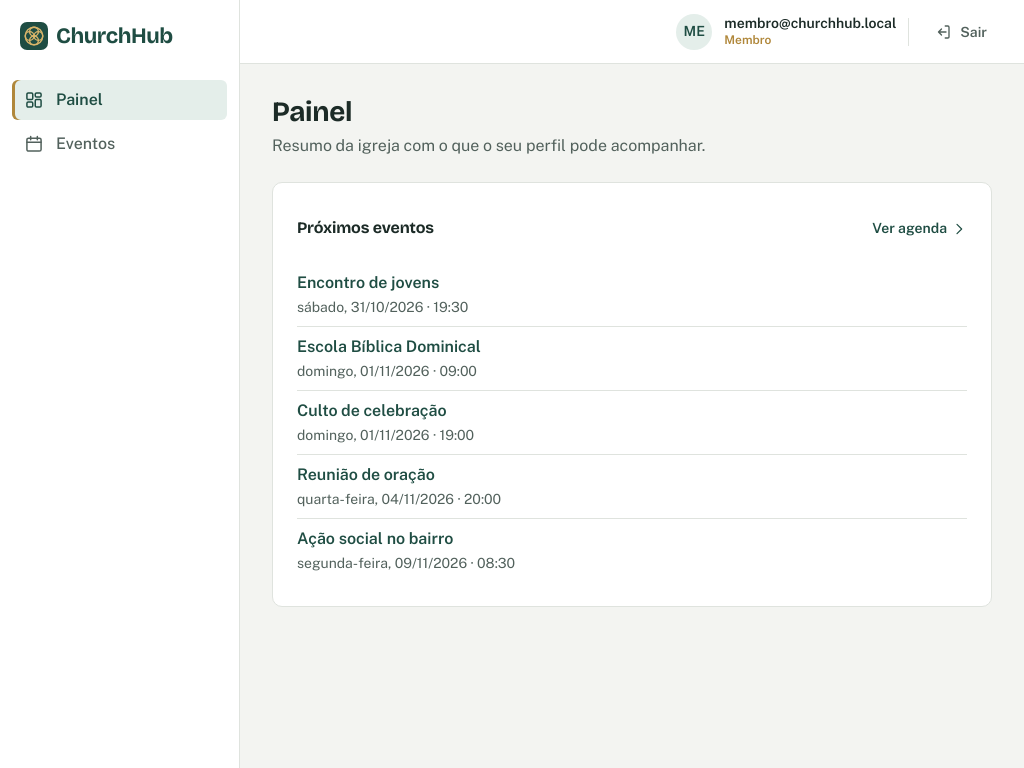
Test: Painel: atalhos para as telas › clicar num evento abre os detalhes dele
The width and height of the screenshot is (1024, 768).
Expected: the heading "Painel" is shown, [272,95,352,129]
Click the link "Encontro de jovens sábado, 31/10/2026 · 19:30": (383, 294) [297,273,468,315]
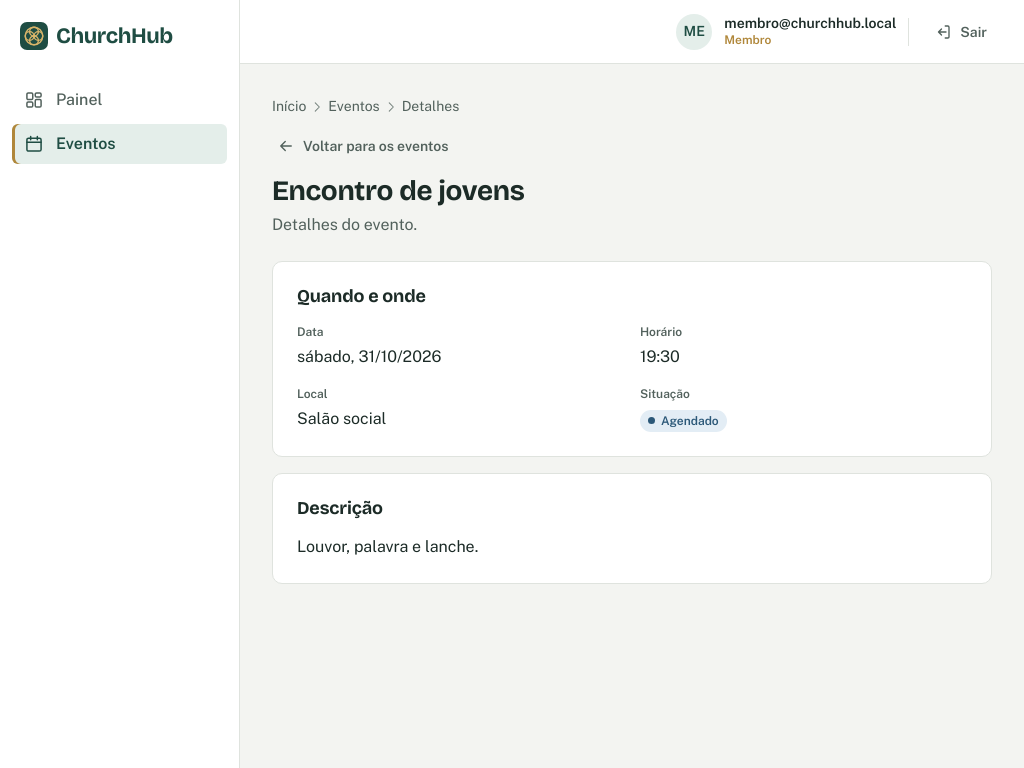
Expected: the heading "Encontro de jovens" is shown, [272,175,524,209]
